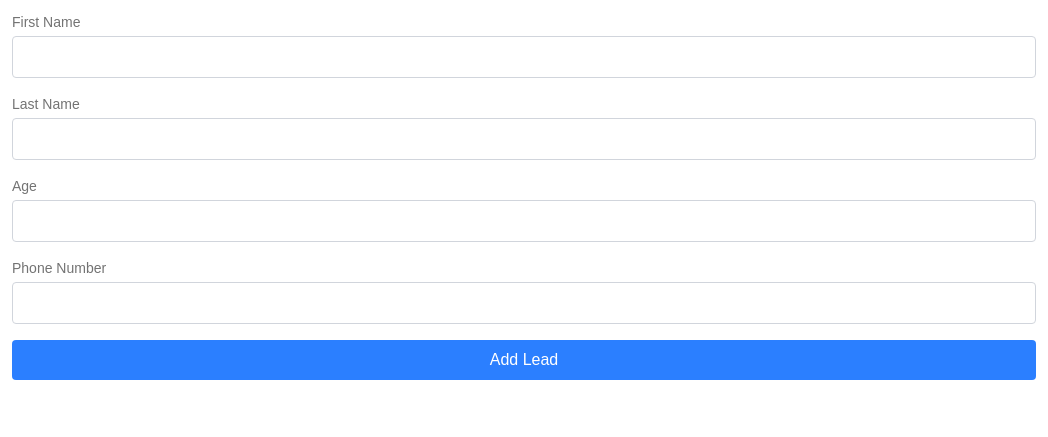
Test: AddLead › shows a success message after the lead is created
Step 1. Click the button "Add Lead" → (524, 360), box [12,340,1036,380]
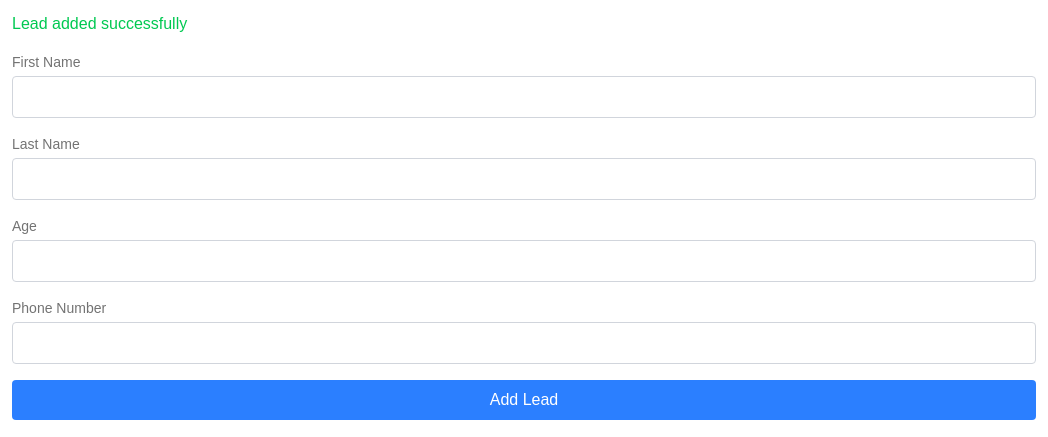
Now the text "Lead added successfully" is shown, box [12,15,187,32]
